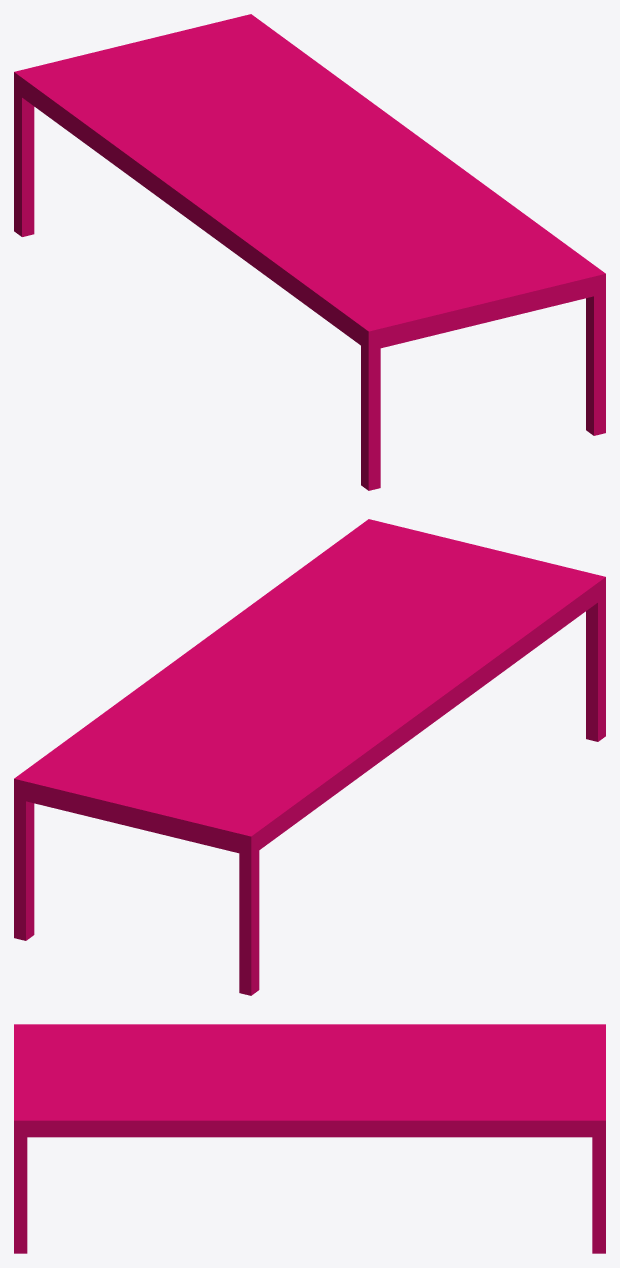
Rendered from Coffee_Table_01_Lod0.fbx.
The picture shows the model from 3 angles, top to bottom: view 1: azimuth 30°, elevation 25°; view 2: azimuth 150°, elevation 25°; view 3: azimuth 270°, elevation 25°; orthographic projection. The views are drawn at different scales.
Visible parts, largest first — view 1: Coffee_Table_01_Lod0; view 2: Coffee_Table_01_Lod0; view 3: Coffee_Table_01_Lod0.
Part boxes in pixels (<box>): Coffee_Table_01_Lod0: <box>14,14,605,490</box>; Coffee_Table_01_Lod0: <box>14,519,605,995</box>; Coffee_Table_01_Lod0: <box>14,1024,605,1253</box>.
Bounding box in the file's own units: 64.82 × 41.62 × 168.
